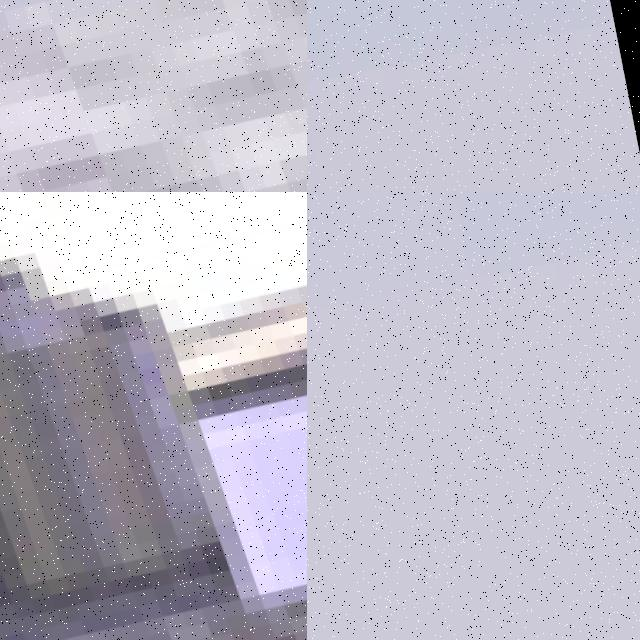drone: (0, 192, 307, 640), (0, 0, 307, 192)
